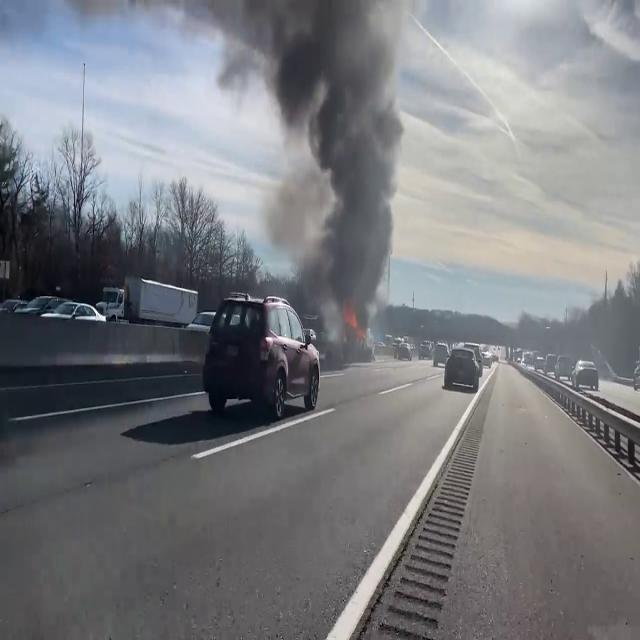Smoke: (260, 0, 406, 316)
